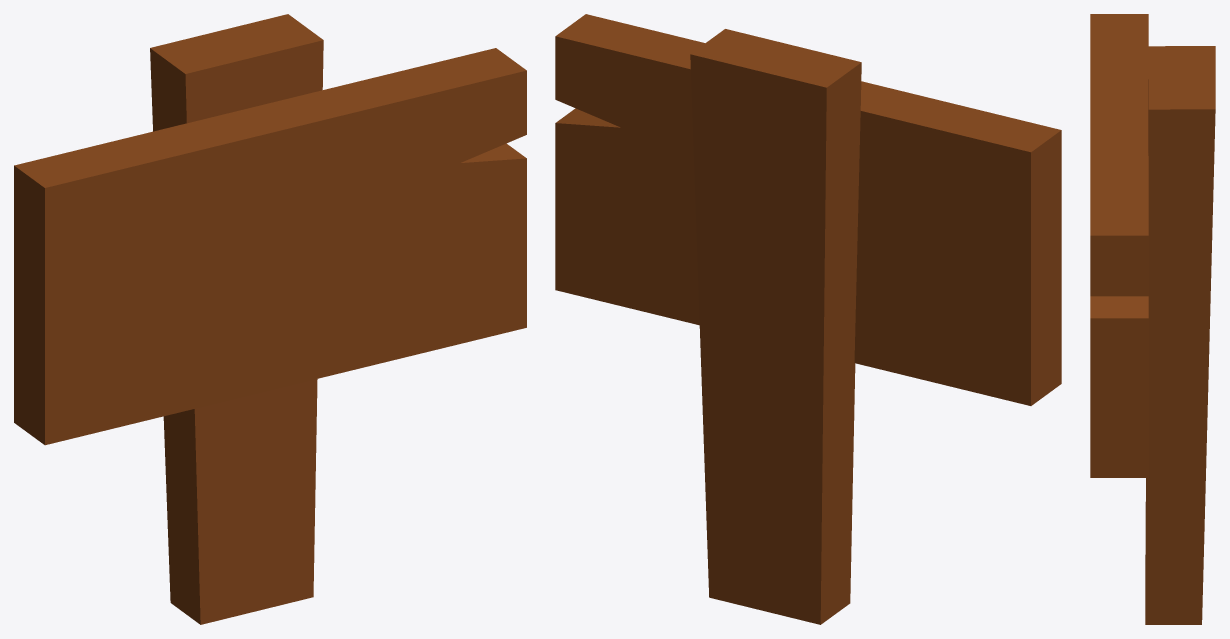
Rendered from Sign_tex.fbx.
3 views of the same model, side by side, from view 1: azimuth 30°, elevation 25°; view 2: azimuth 150°, elevation 25°; view 3: azimuth 270°, elevation 25° (orthographic). The views are drawn at different scales.
Visible parts, largest first — view 1: Sign_tex; view 2: Sign_tex; view 3: Sign_tex.
Boxes of the visible parts, bbox=[...] form: Sign_tex: bbox=[14, 14, 526, 624]; Sign_tex: bbox=[555, 14, 1061, 624]; Sign_tex: bbox=[1090, 14, 1215, 624].
Bounding box in the file's own units: 0.8439 × 0.9256 × 0.2015.
